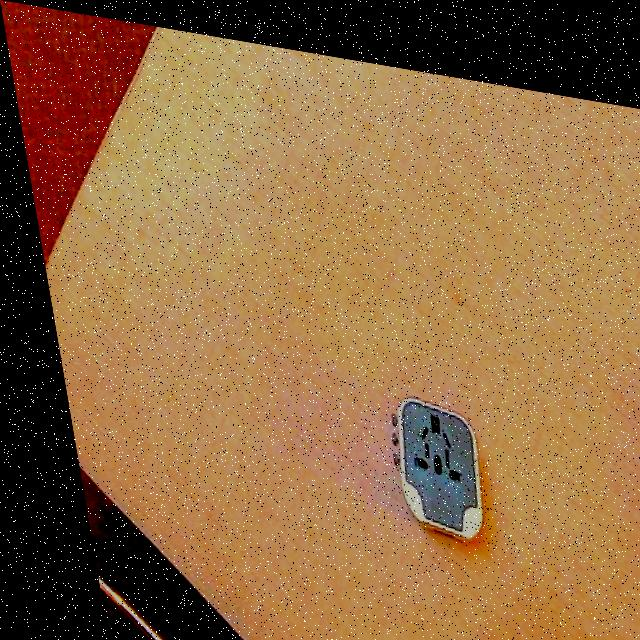adapter: (370, 379, 478, 531)
